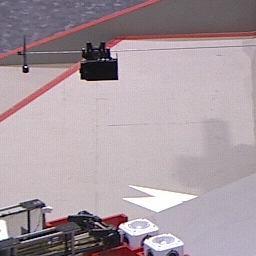Robot: (1, 197, 118, 256)
